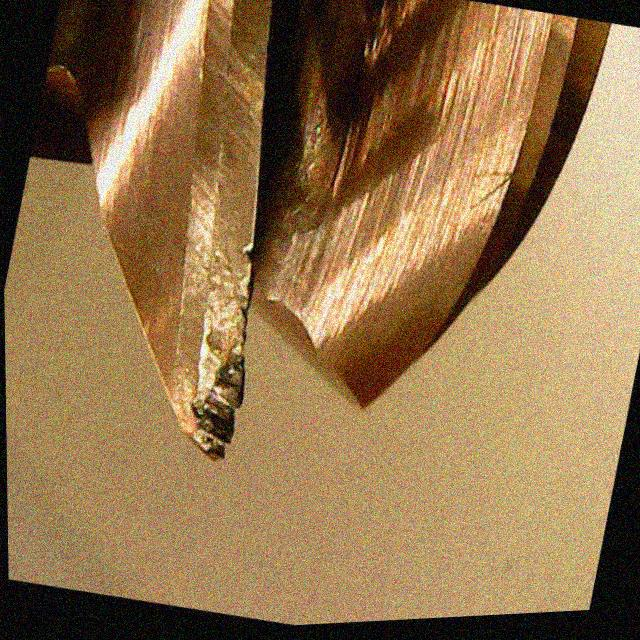Tool-wear-class-1: (120, 178, 305, 480)
